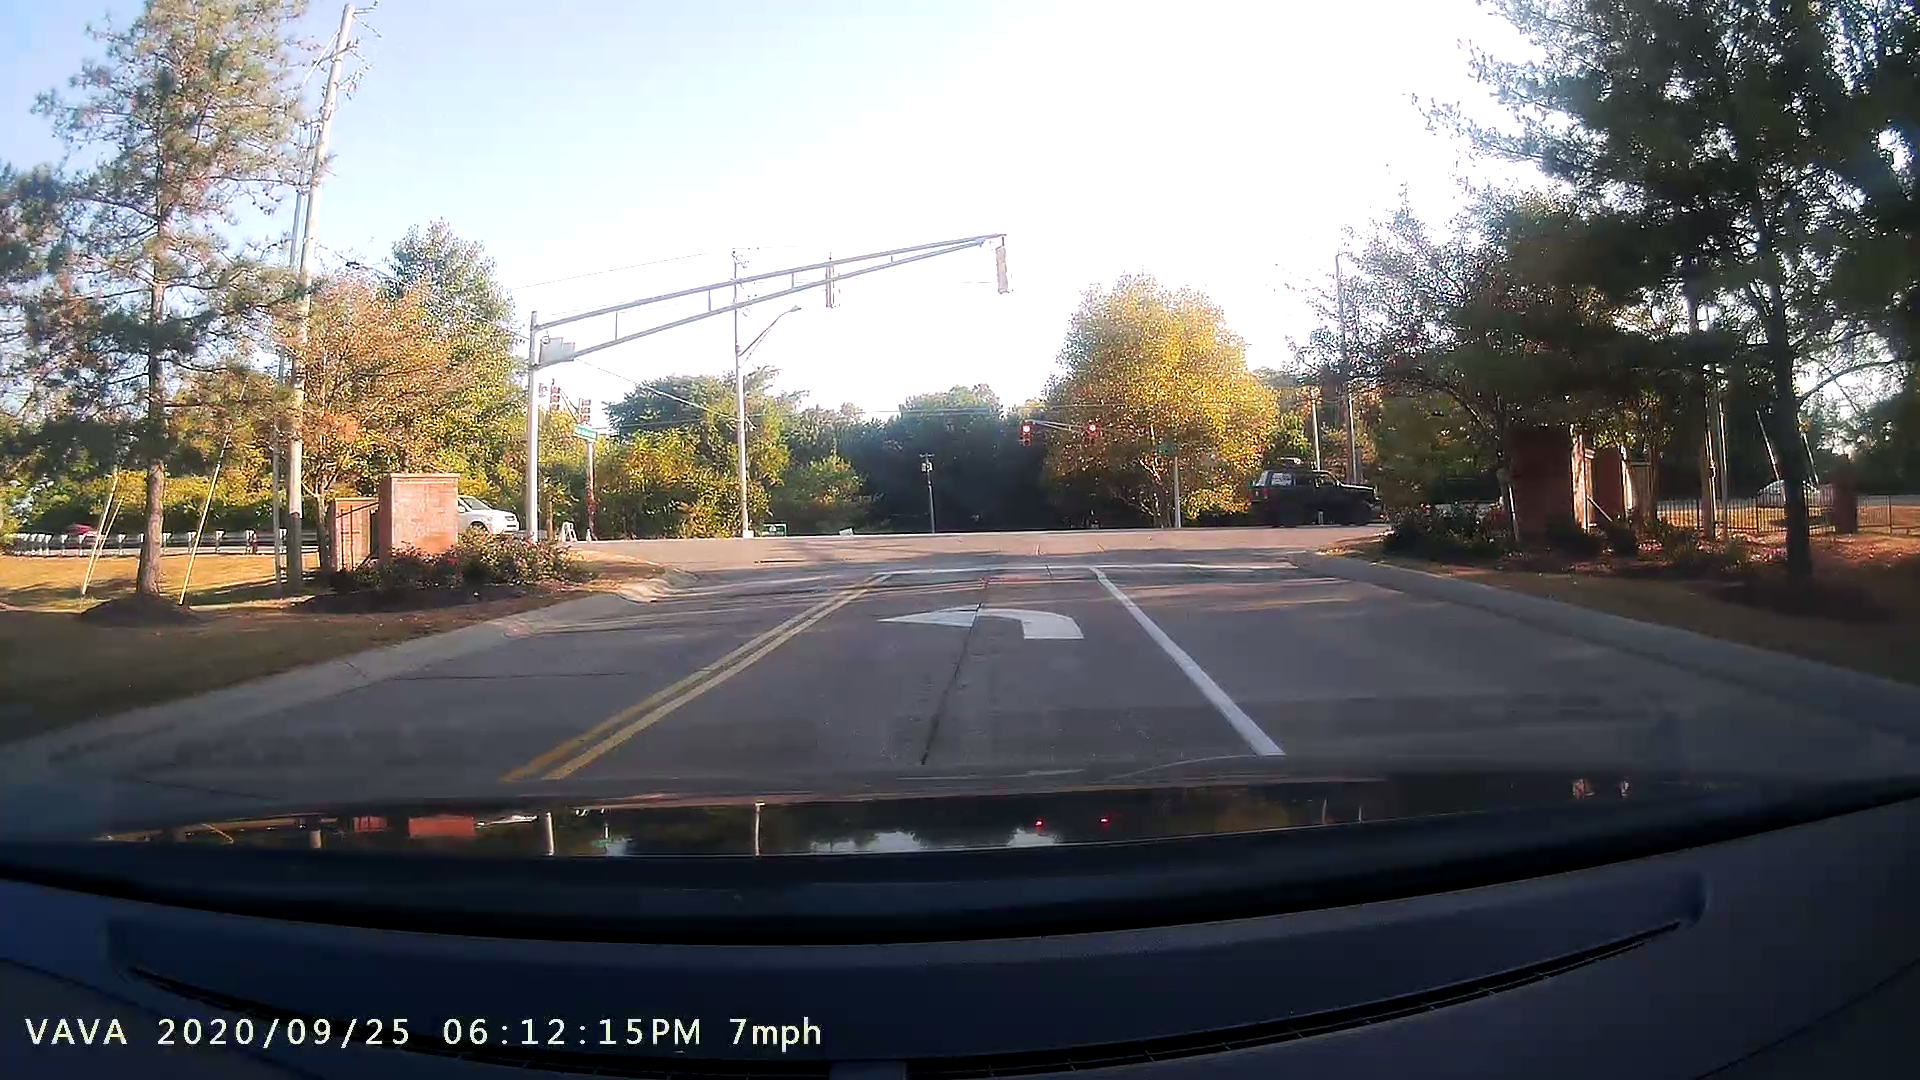left_turn: (868, 600, 1098, 647)
